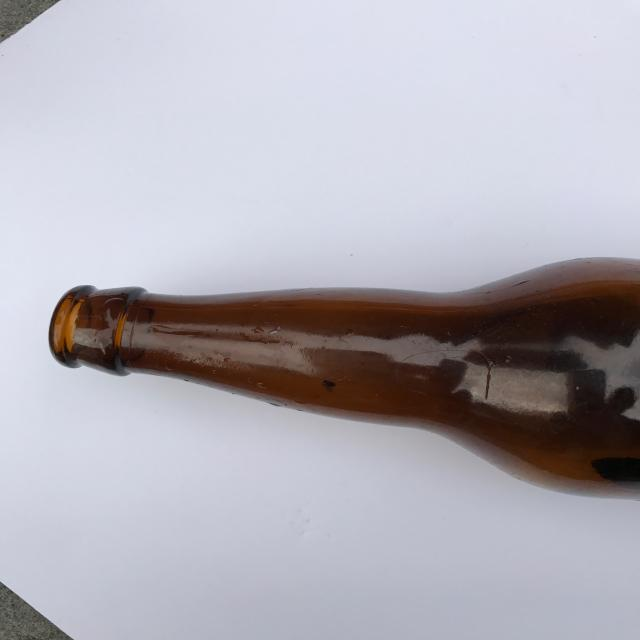glass: (52, 254, 640, 502)
